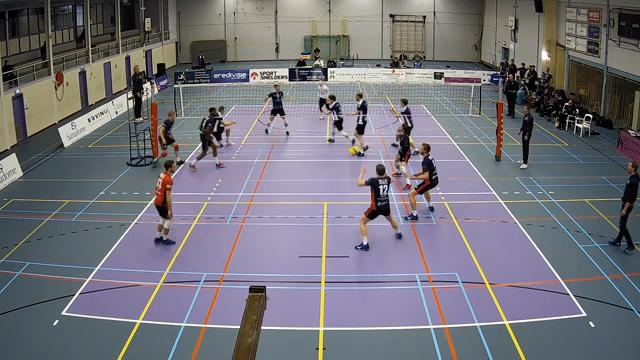Dig: (344, 158, 404, 251)
Player: (405, 143, 438, 220), (189, 107, 224, 171), (154, 160, 175, 244), (152, 111, 183, 166), (392, 98, 418, 154), (327, 94, 355, 144), (265, 84, 288, 134), (393, 123, 410, 189), (352, 92, 368, 155), (213, 106, 235, 144), (318, 81, 329, 113)
ball: (349, 145, 360, 156)
